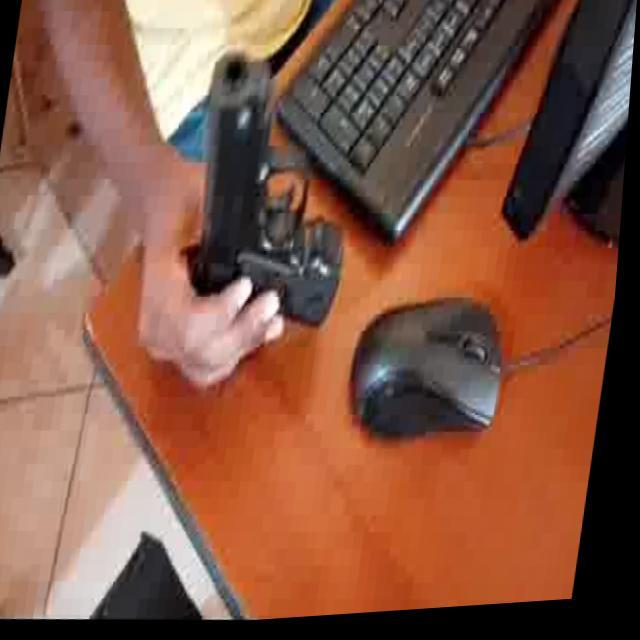weapon: (178, 42, 376, 340)
